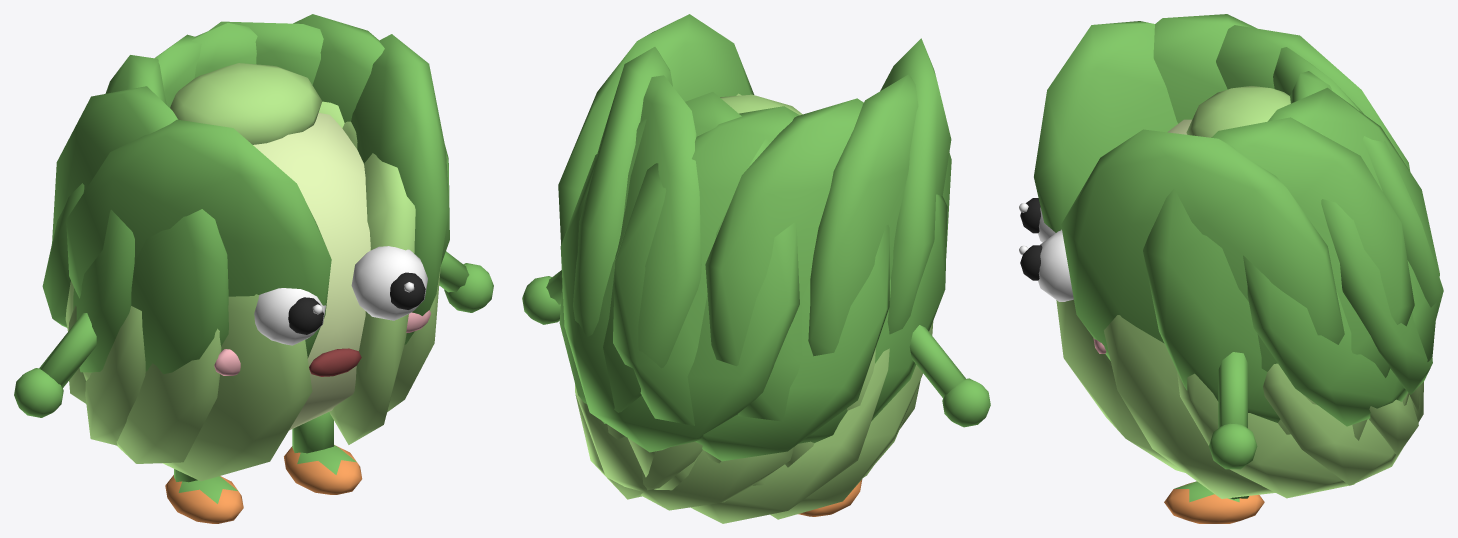
File: salad.glb
3 views of the same model, side by side, from view 1: azimuth 30°, elevation 25°; view 2: azimuth 150°, elevation 25°; view 3: azimuth 270°, elevation 25° (orthographic). The views are drawn at different scales.
Visible parts, largest first — view 1: Salad_Leaves_1, Salad_Leaves_0, Salad_Body, Salad_TopCurl, Leg_R, Arm_L, Salad_Eye_R, Leg_L, Arm_R, Salad_Eye_L, Salad_Mouth, Salad_Pupil_L (+2 smaller); view 2: Salad_Leaves_1, Salad_Leaves_0, Arm_L, Arm_R, Salad_TopCurl, Leg_L; view 3: Salad_Leaves_1, Salad_Leaves_0, Arm_R, Salad_TopCurl, Leg_R, Salad_Eye_R, Salad_Pupil_R, Salad_Pupil_L.
Part boxes in pixels (x1,y1,x2,y2): Salad_Leaves_1: [42, 14, 449, 374]; Salad_Leaves_0: [65, 101, 440, 481]; Salad_Body: [253, 113, 370, 430]; Salad_TopCurl: [170, 63, 322, 144]; Leg_R: [284, 412, 362, 494]; Arm_L: [14, 313, 96, 417]; Salad_Eye_R: [351, 246, 427, 320]; Leg_L: [165, 469, 243, 523]; Arm_R: [439, 251, 493, 312]; Salad_Eye_L: [254, 288, 325, 345]; Salad_Mouth: [309, 348, 361, 376]; Salad_Pupil_L: [288, 297, 323, 334]; Salad_Leaves_1: [558, 14, 951, 461]; Salad_Leaves_0: [575, 93, 933, 523]; Arm_L: [909, 325, 990, 427]; Arm_R: [522, 270, 562, 324]; Salad_TopCurl: [720, 94, 802, 115]; Leg_L: [798, 479, 862, 516]; Salad_Leaves_1: [1034, 14, 1443, 426]; Salad_Leaves_0: [1056, 299, 1423, 498]; Arm_R: [1209, 352, 1257, 469]; Salad_TopCurl: [1186, 86, 1290, 137]; Leg_R: [1164, 481, 1264, 523]; Salad_Eye_R: [1038, 231, 1073, 301]; Salad_Pupil_R: [1020, 245, 1042, 280]; Salad_Pupil_L: [1020, 198, 1040, 233].
Size of the model in its own units: 0.2787 by 0.2503 by 0.2274.
